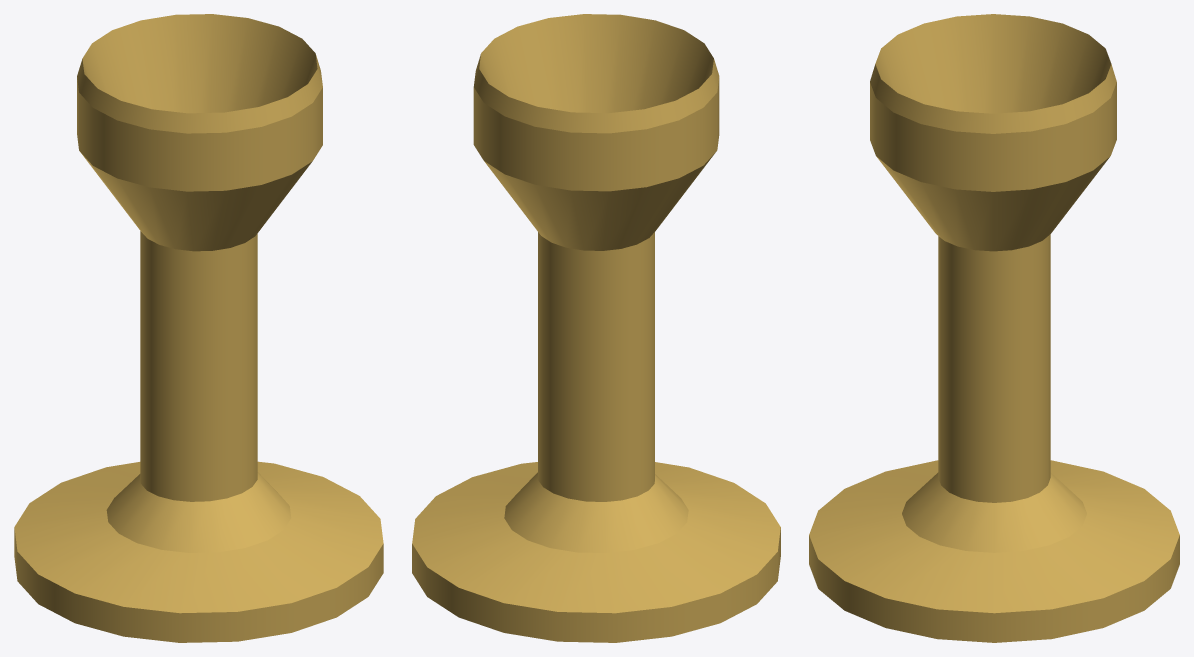
The model's file is light.fbx.
The picture shows the model from 3 angles, left to right: view 1: azimuth 30°, elevation 25°; view 2: azimuth 150°, elevation 25°; view 3: azimuth 270°, elevation 25°; orthographic projection.
Visible parts, largest first — view 1: pCylinder1, pPipe1; view 2: pCylinder1, pPipe1; view 3: pCylinder1, pPipe1.
Boxes of the visible parts, left/top/right/bottom form: pCylinder1: left=14, top=231, right=383, bottom=642; pPipe1: left=77, top=14, right=322, bottom=251; pCylinder1: left=412, top=232, right=780, bottom=642; pPipe1: left=473, top=14, right=719, bottom=250; pCylinder1: left=809, top=234, right=1179, bottom=642; pPipe1: left=870, top=14, right=1116, bottom=251.
Bounding box in the file's own units: 0.0179 × 0.0266 × 0.0179.
